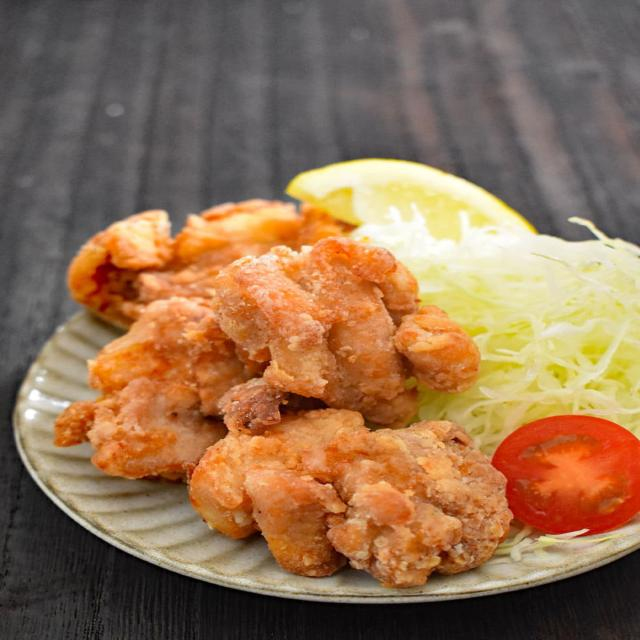Frango: (54, 197, 512, 588)
